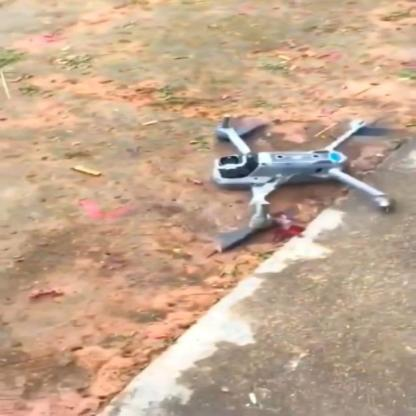drone: (208, 114, 394, 254)
